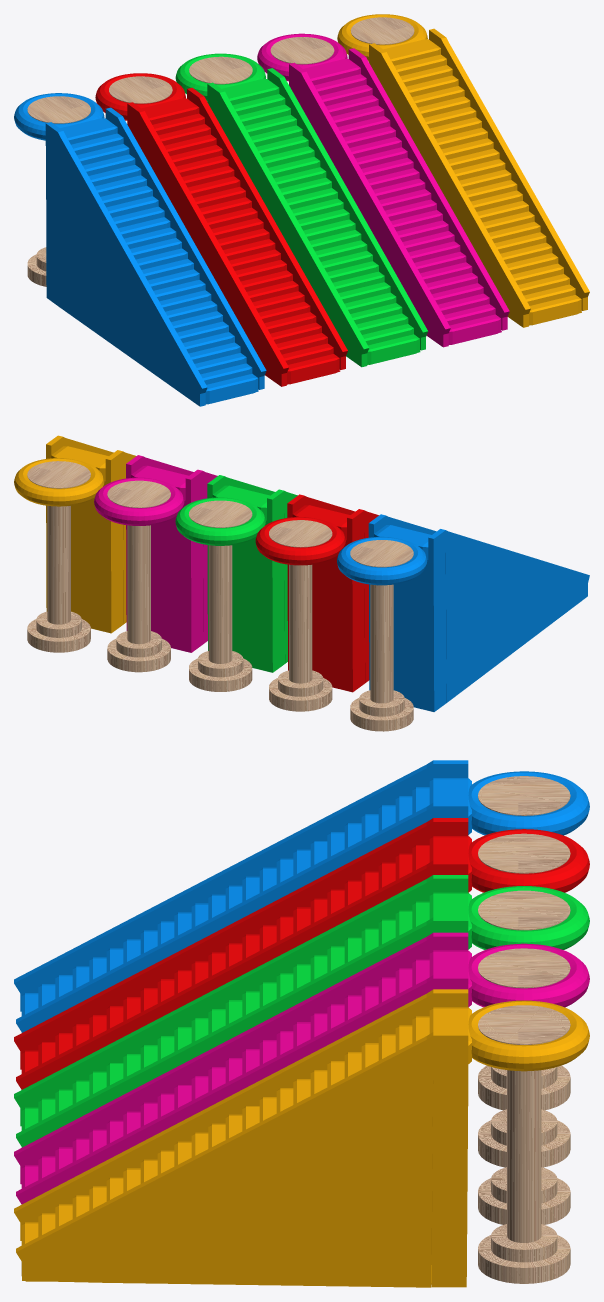
File: StairWithElevator.fbx
3 renders of one model, top to bottom at view 1: azimuth 30°, elevation 25°; view 2: azimuth 150°, elevation 25°; view 3: azimuth 270°, elevation 25°, orthographic. The views are drawn at different scales.
Parts seen in each view (by area): view 1: Material_009_material, Material_012_material, Material_010_material, Material_013_material, Material_011_material; view 2: Material_009_material, Material_012_material, Material_010_material, Material_013_material, Material_011_material; view 3: Material_013_material, Material_011_material, Material_012_material, Material_010_material, Material_009_material.
Part boxes in pixels (x1,y1,x2,y2): Material_009_material: [14, 93, 266, 406]; Material_012_material: [257, 33, 509, 347]; Material_010_material: [95, 73, 347, 386]; Material_013_material: [337, 14, 589, 327]; Material_011_material: [175, 53, 428, 367]; Material_009_material: [337, 514, 589, 731]; Material_012_material: [94, 455, 217, 672]; Material_010_material: [255, 494, 378, 711]; Material_013_material: [14, 435, 136, 652]; Material_011_material: [175, 475, 297, 691]; Material_013_material: [14, 989, 589, 1287]; Material_011_material: [14, 875, 589, 1167]; Material_012_material: [14, 932, 589, 1224]; Material_010_material: [14, 818, 589, 1110]; Material_009_material: [14, 760, 589, 1032].
Bounding box in the file's own units: 3828 × 1585 × 3272.
